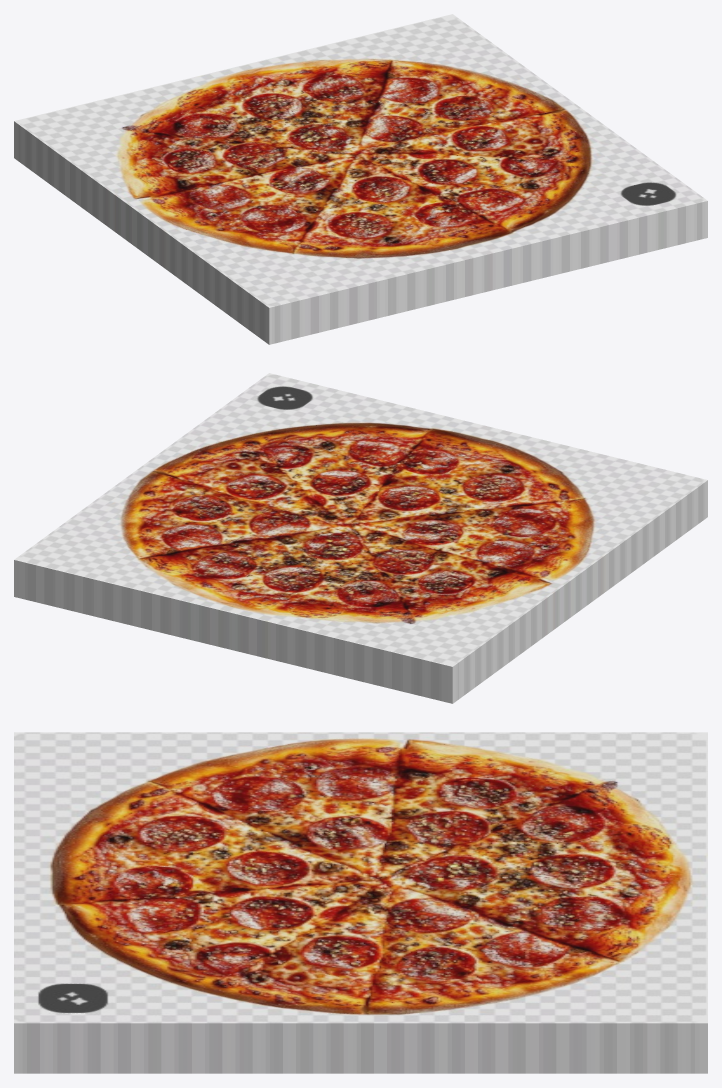
The model's file is pizzacalabresa.glb.
3 views of the same model, one above another, from view 1: azimuth 30°, elevation 25°; view 2: azimuth 150°, elevation 25°; view 3: azimuth 270°, elevation 25° (orthographic). The views are drawn at different scales.
Size of the model in its own units: 0.0992 by 0.008 by 0.1.
Materials: 1 (1 with a texture image).
